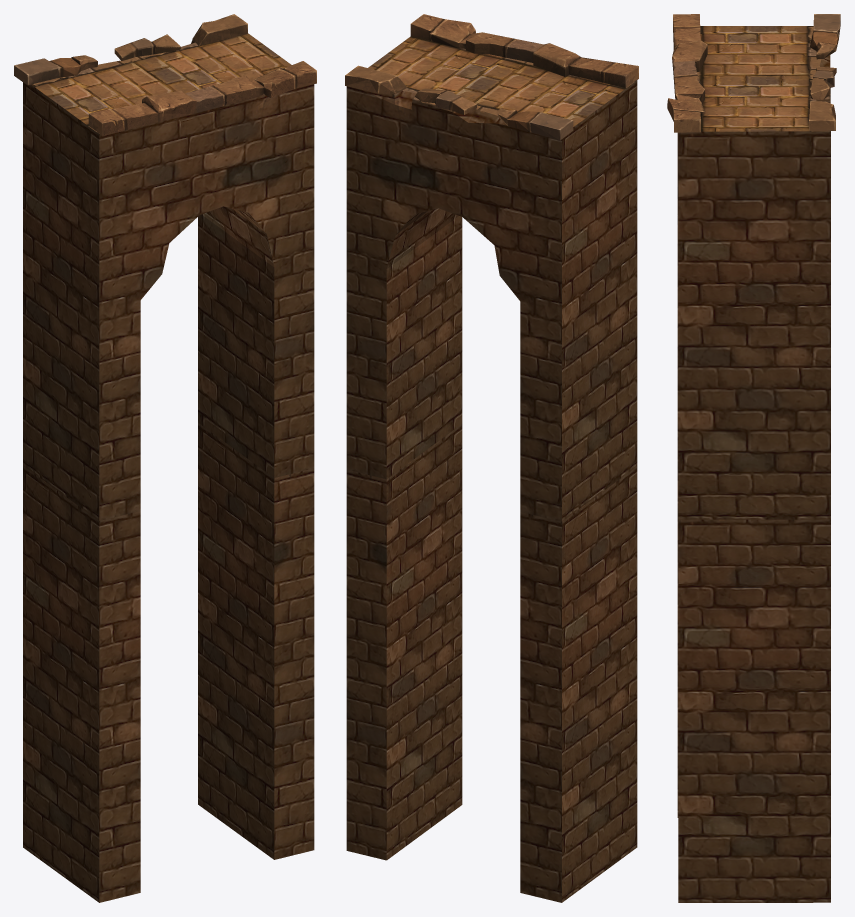
File: Qiao03.FBX
3 views of the same model, side by side, from view 1: azimuth 30°, elevation 25°; view 2: azimuth 150°, elevation 25°; view 3: azimuth 270°, elevation 25° (orthographic).
Visible parts, largest first — view 1: Qiao03; view 2: Qiao03; view 3: Qiao03.
Boxes of the visible parts, x1,y1,x2,y2 form: Qiao03: (14,14,316,902); Qiao03: (345,14,638,902); Qiao03: (667,14,840,902).
Size of the model in its own units: 353 by 1202 by 241.
